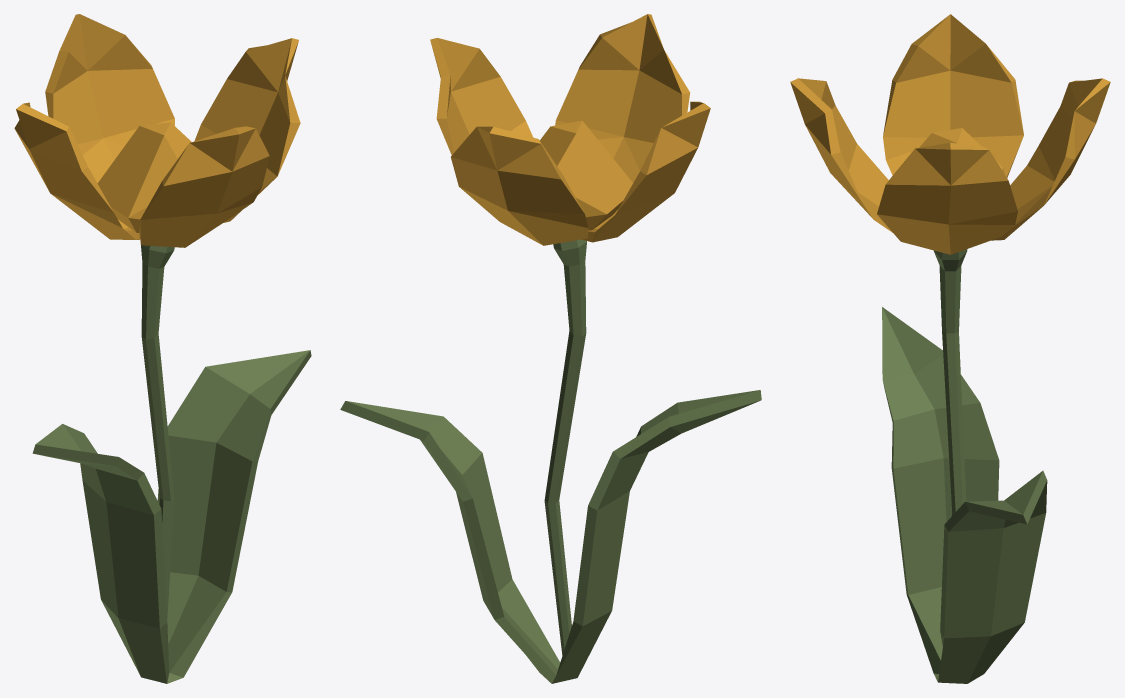
Rendered from SM_Envr_Nature_Plant_Flower_05.fbx.
3 views of the same model, side by side, from view 1: azimuth 30°, elevation 25°; view 2: azimuth 150°, elevation 25°; view 3: azimuth 270°, elevation 25° (orthographic). The views are drawn at different scales.
Visible parts, largest first — view 1: SM_Envr_Nature_Plant_Flower_05; view 2: SM_Envr_Nature_Plant_Flower_05; view 3: SM_Envr_Nature_Plant_Flower_05.
Part boxes in pixels (box(x1,y1,x2,y2)): SM_Envr_Nature_Plant_Flower_05: box(14, 14, 311, 683); SM_Envr_Nature_Plant_Flower_05: box(340, 14, 761, 683); SM_Envr_Nature_Plant_Flower_05: box(790, 14, 1110, 683).
Size of the model in its own units: 37.62 by 61.95 by 30.26.
